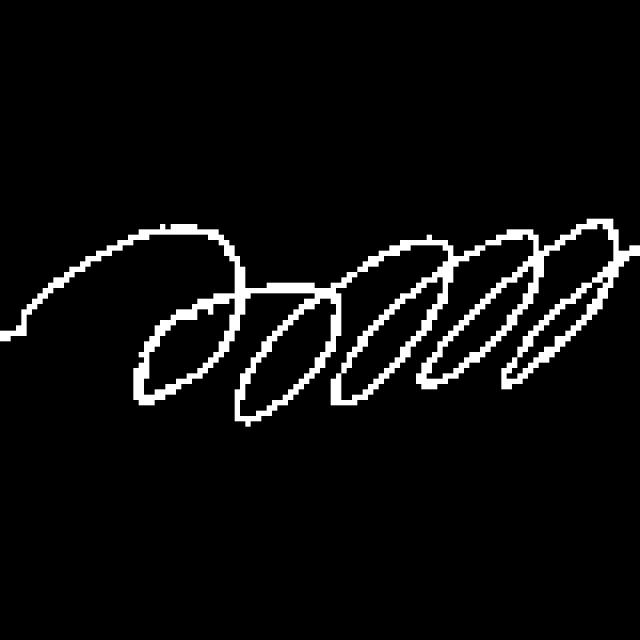inductor: (32, 192, 640, 421)
